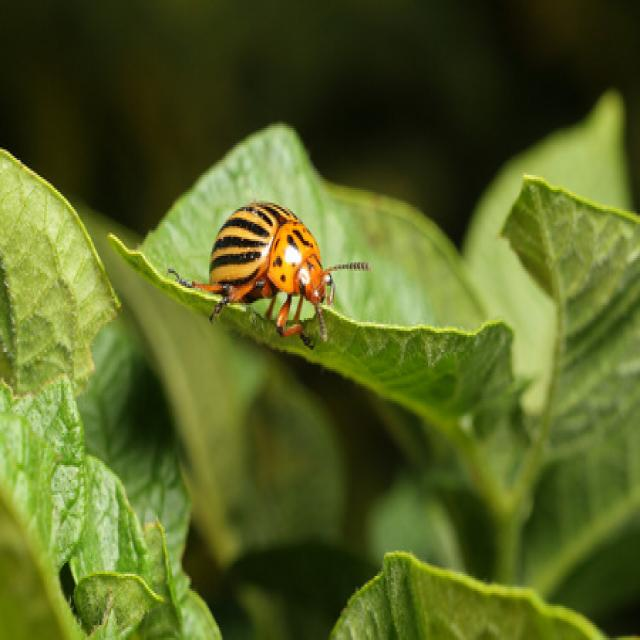ShuCaiHuaBanChong-Grown-: (180, 178, 365, 362)
